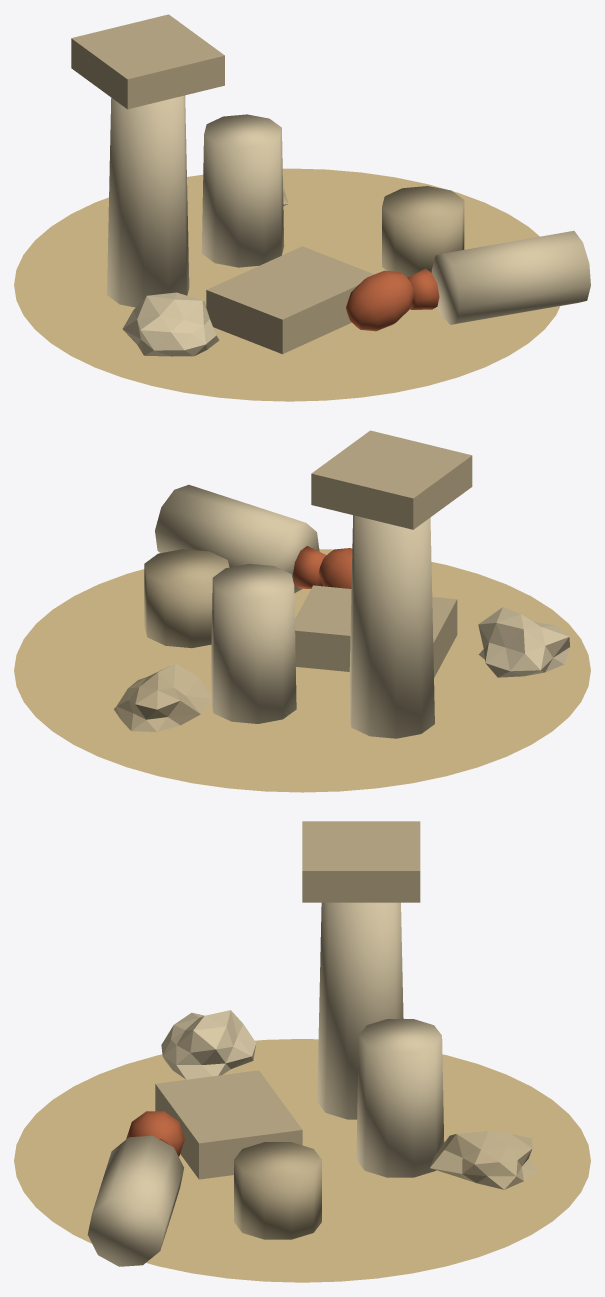
The model's file is resource_antiquity_site.fbx.
3 renders of one model, top to bottom at view 1: azimuth 30°, elevation 25°; view 2: azimuth 150°, elevation 25°; view 3: azimuth 270°, elevation 25°, orthographic. The views are drawn at different scales.
Visible parts, largest first — view 1: resource_antiquity_site_sg#d8c08a.001_00, resource_antiquity_site_ruin_01, resource_antiquity_site_ruin2_02, resource_antiquity_site_amph_03; view 2: resource_antiquity_site_sg#d8c08a.001_00, resource_antiquity_site_ruin_01, resource_antiquity_site_ruin2_02, resource_antiquity_site_amph_03; view 3: resource_antiquity_site_sg#d8c08a.001_00, resource_antiquity_site_ruin_01, resource_antiquity_site_ruin2_02, resource_antiquity_site_amph_03.
Part boxes in pixels (bbox=[...]): resource_antiquity_site_sg#d8c08a.001_00: bbox=[14, 168, 560, 401]; resource_antiquity_site_ruin_01: bbox=[107, 95, 590, 356]; resource_antiquity_site_ruin2_02: bbox=[71, 14, 464, 354]; resource_antiquity_site_amph_03: bbox=[346, 268, 439, 331]; resource_antiquity_site_sg#d8c08a.001_00: bbox=[14, 549, 590, 792]; resource_antiquity_site_ruin_01: bbox=[155, 484, 569, 738]; resource_antiquity_site_ruin2_02: bbox=[114, 430, 472, 731]; resource_antiquity_site_amph_03: bbox=[293, 546, 352, 588]; resource_antiquity_site_sg#d8c08a.001_00: bbox=[14, 1039, 590, 1282]; resource_antiquity_site_ruin_01: bbox=[87, 902, 444, 1266]; resource_antiquity_site_ruin2_02: bbox=[155, 821, 539, 1239]; resource_antiquity_site_amph_03: bbox=[126, 1111, 184, 1156].
Size of the model in its own units: 118 by 58.47 by 118.
